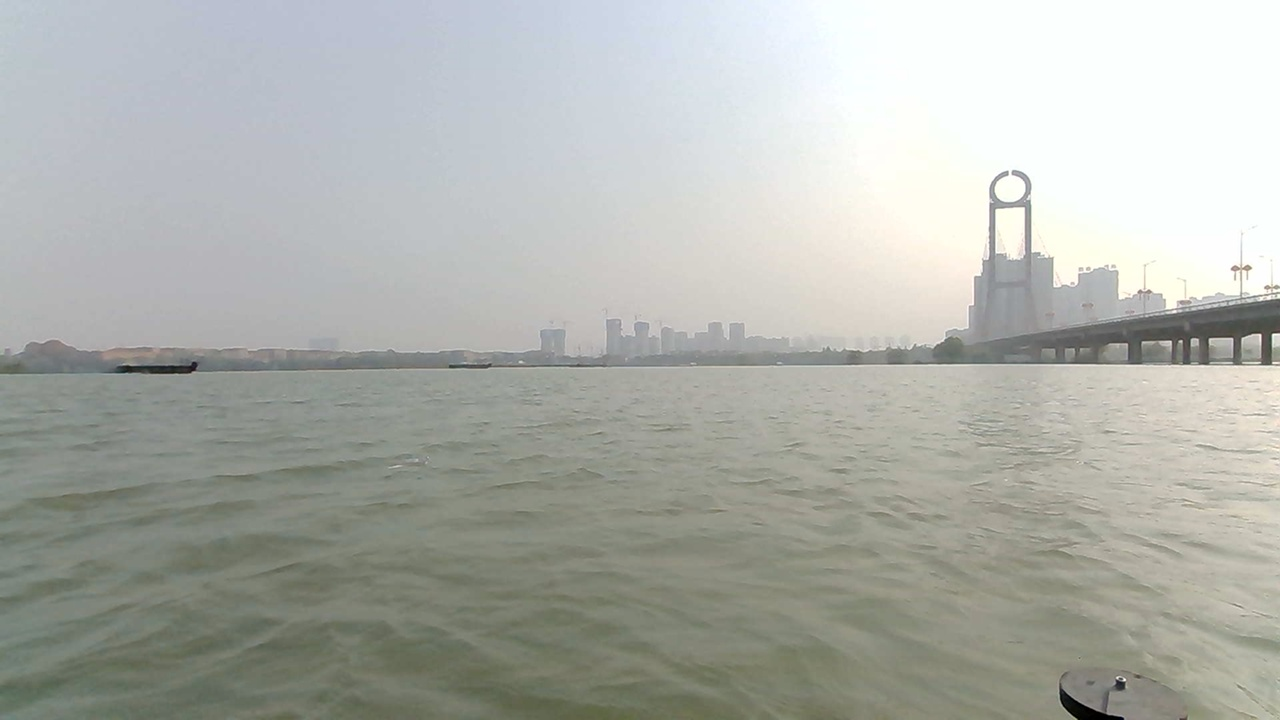bottle: (374, 442, 449, 495)
